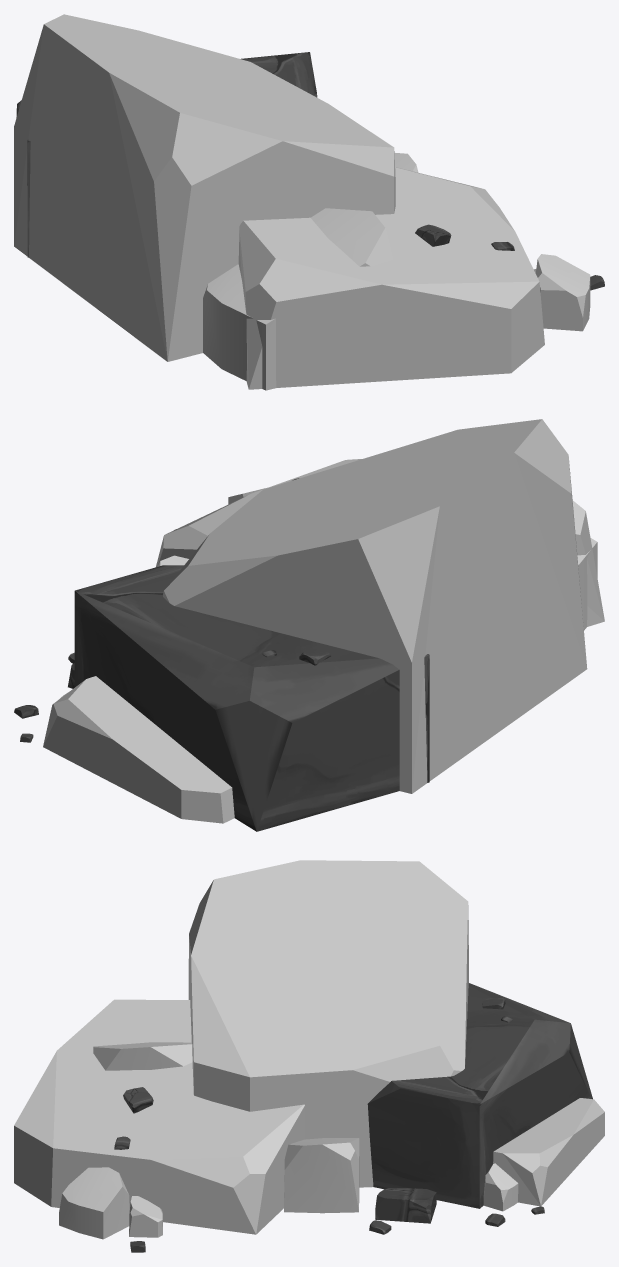
Rendered from SM_ModularKit_Rubble.fbx.
3 renders of one model, top to bottom at view 1: azimuth 30°, elevation 25°; view 2: azimuth 150°, elevation 25°; view 3: azimuth 270°, elevation 25°, orthographic. The views are drawn at different scales.
Visible parts, largest first — view 1: Rubble; view 2: Rubble; view 3: Rubble.
Boxes of the visible parts, x1,y1,x2,y2 form: Rubble: (14, 14, 604, 390); Rubble: (14, 419, 604, 831); Rubble: (14, 860, 604, 1252).
Size of the model in its own units: 153 by 87.61 by 216.
